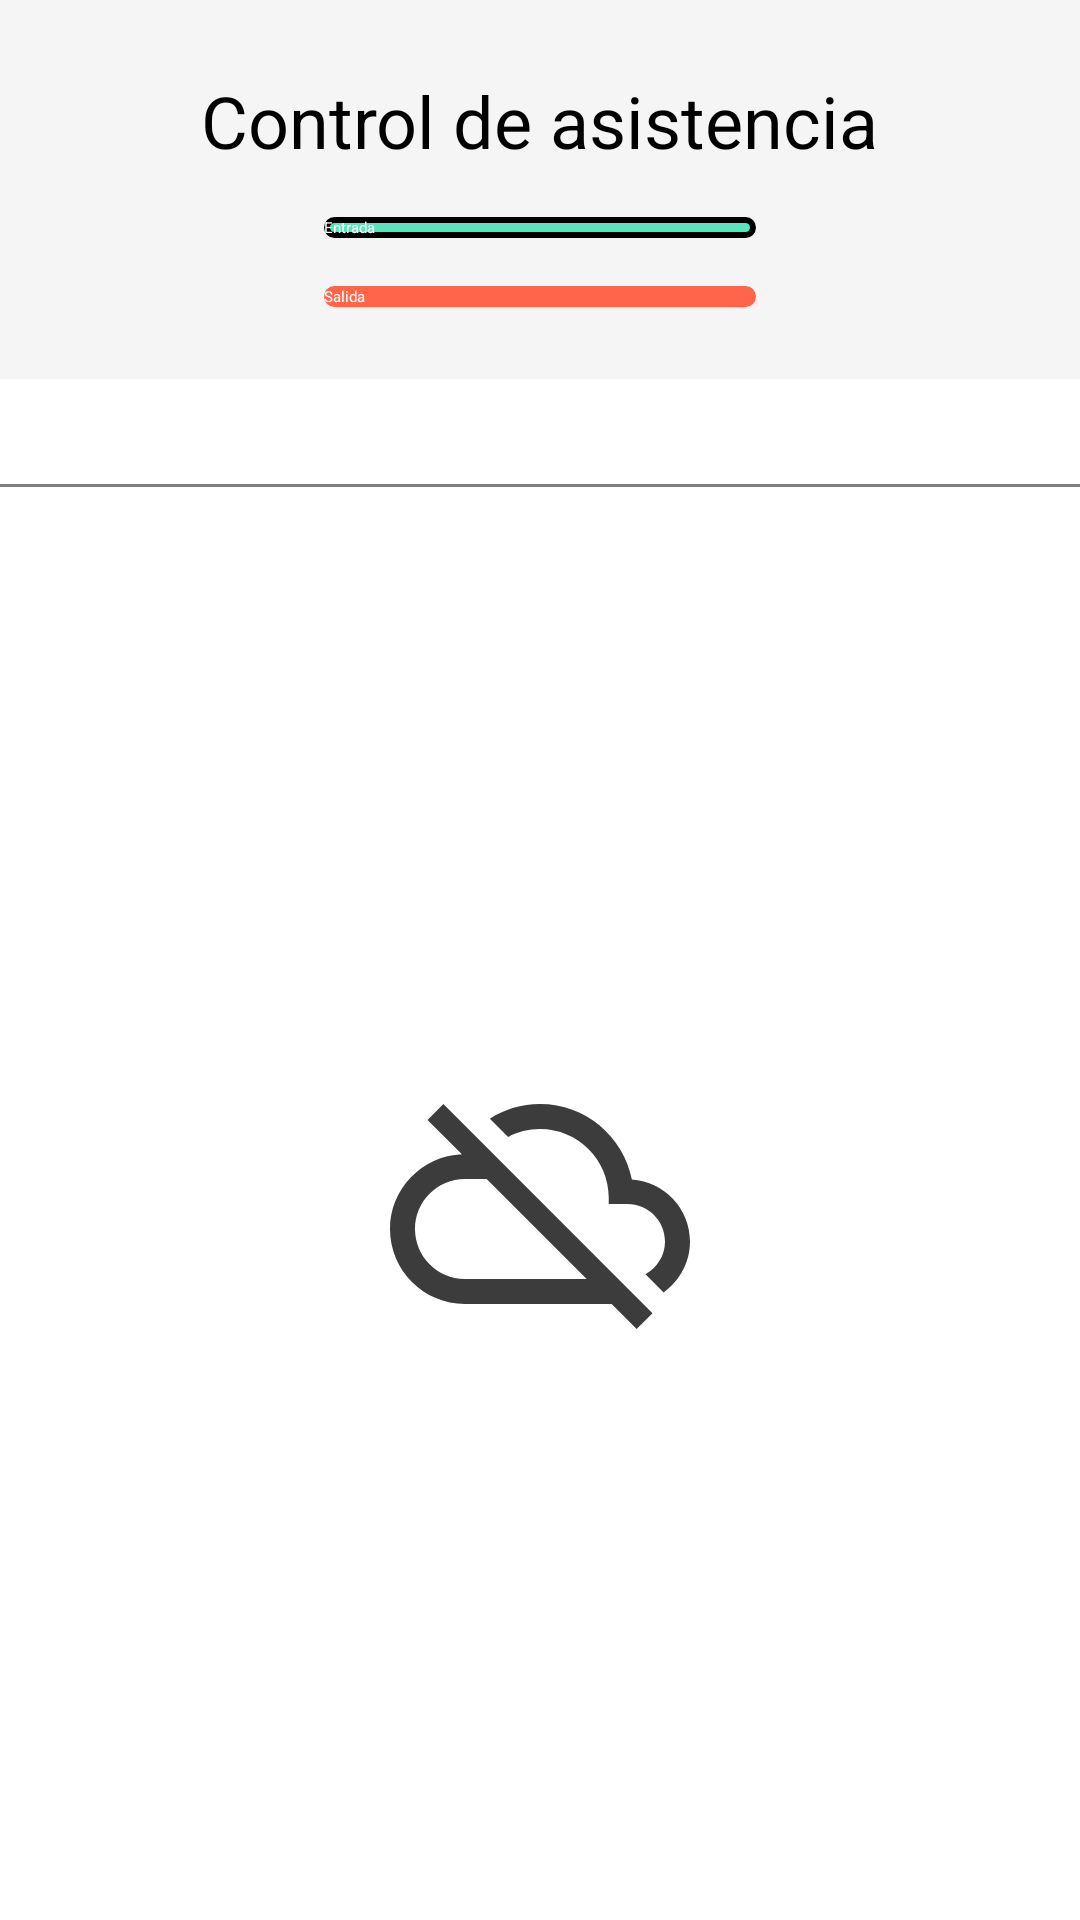

Icon click points for this 1080 x 1920 phone screenshot, format (x=x, y=y):
Error al intentar obtener la lista de usuarios desde la nube: (x=540, y=1216)
